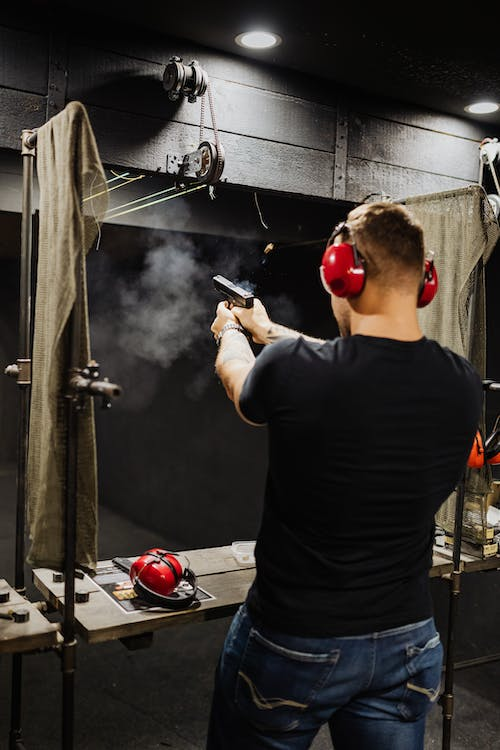gun: (209, 269, 257, 314)
